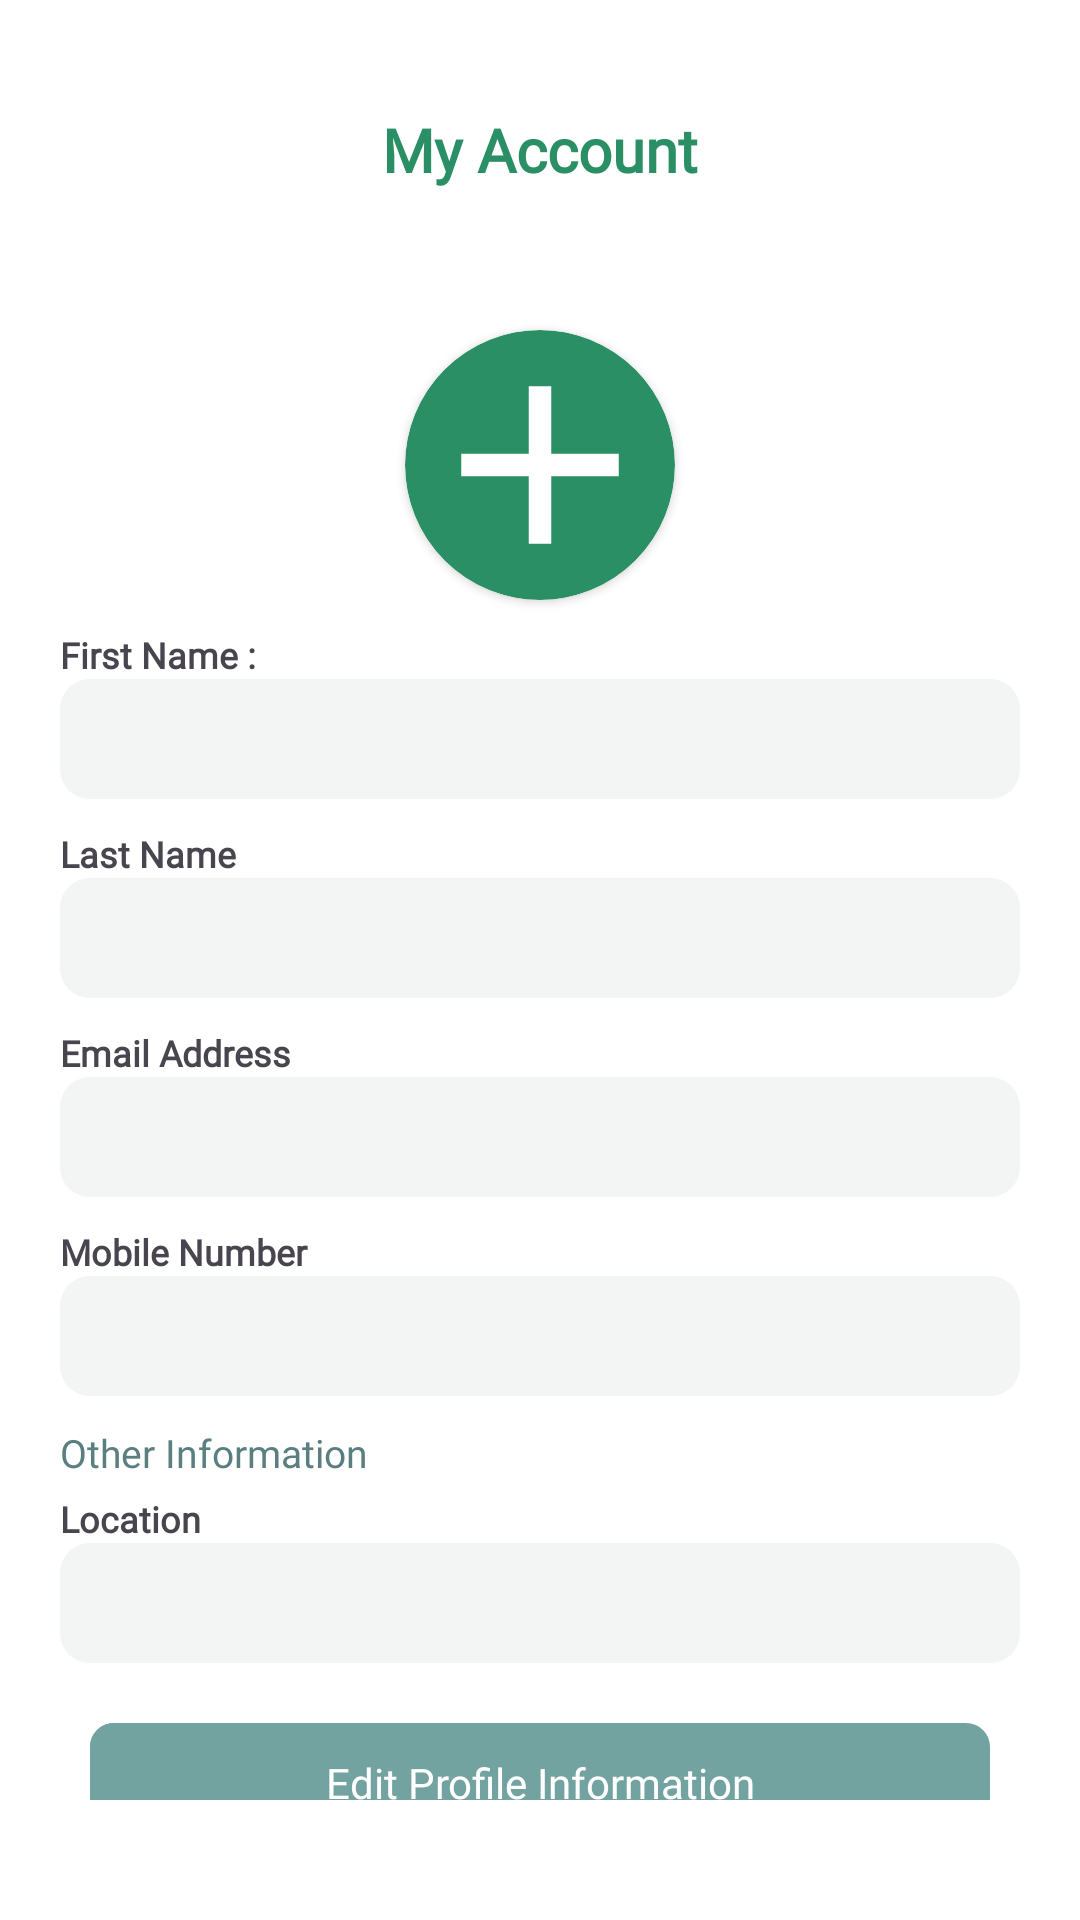

Where icons sit on this 1080×1920 app screen, as (x1, y1, x2, y2):
add: (405, 330, 675, 600)
